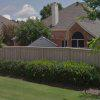Chimney: (42, 2, 66, 24)
